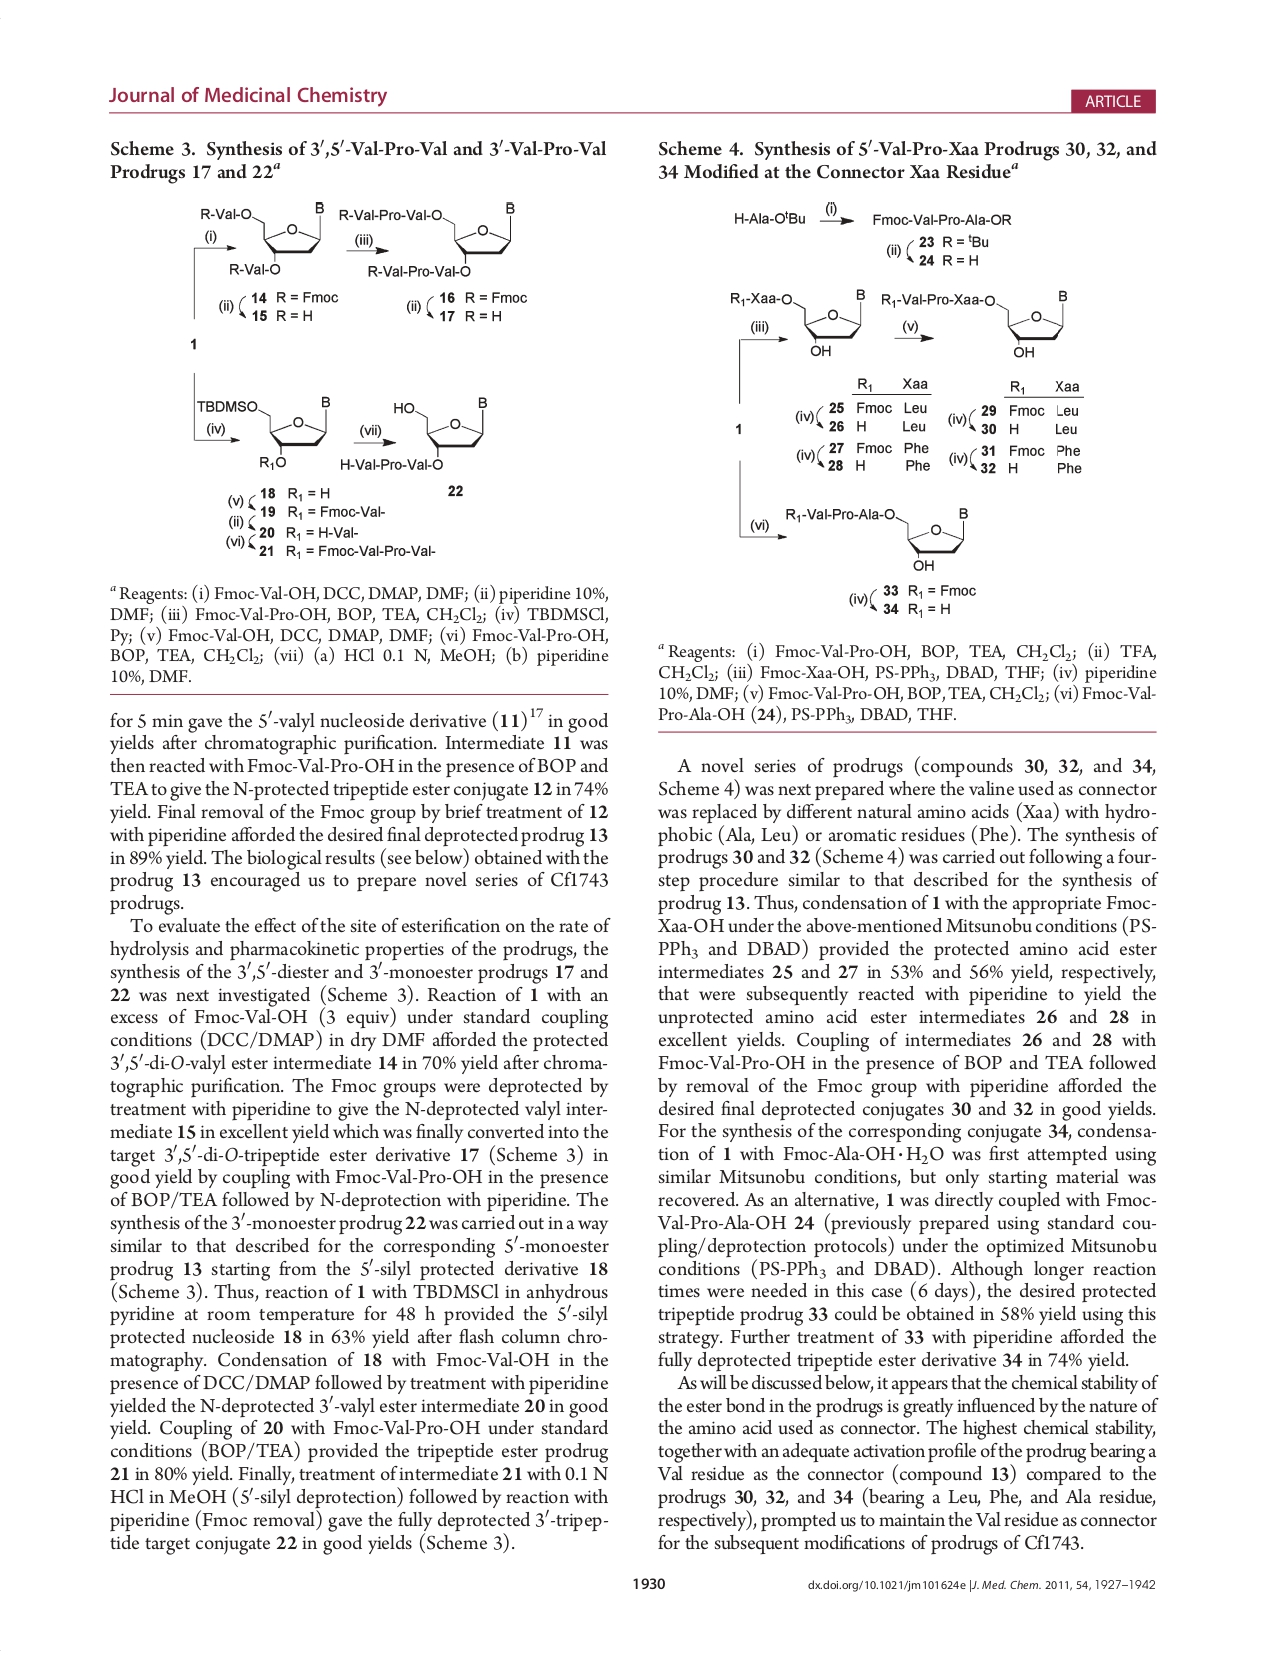exist_molecular: (336, 198, 520, 282), (879, 286, 1071, 356), (782, 501, 969, 573), (338, 394, 491, 473), (193, 394, 332, 472), (197, 199, 328, 279), (725, 285, 866, 358)
